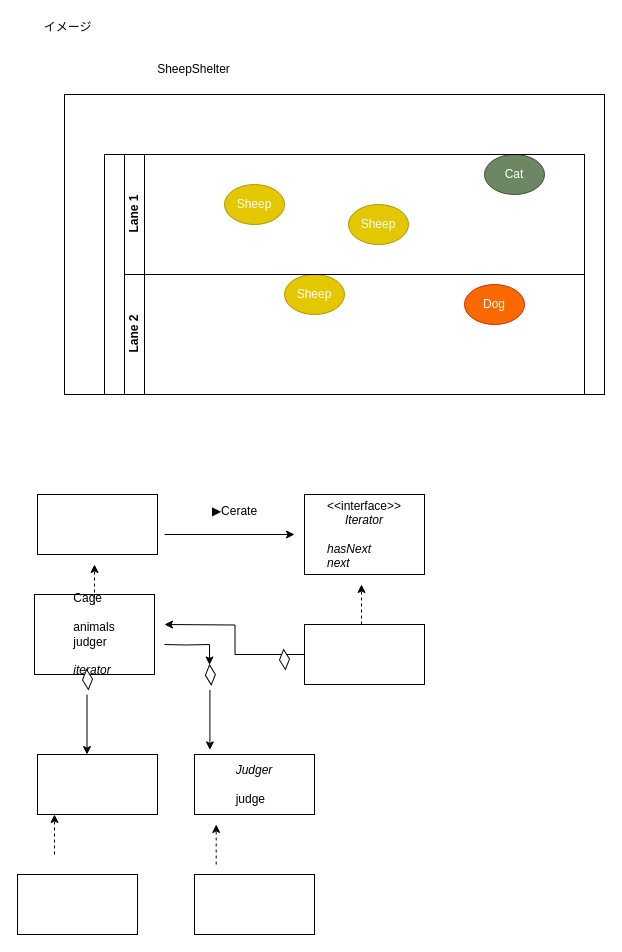
The diagram is 622 pixels wide and 952 high, and some of its shapes have lost their labels. Each missing label, with the box of its shape:
<<interface>> Aggregate iterator: (36, 494, 158, 554)
Animal name: (36, 754, 158, 814)
AnimalIterator cage hasNext next: (304, 624, 424, 684)
Pool: (104, 154, 584, 394)
Sheep name: (16, 874, 138, 934)
SheepJudger judge: (194, 874, 314, 934)
